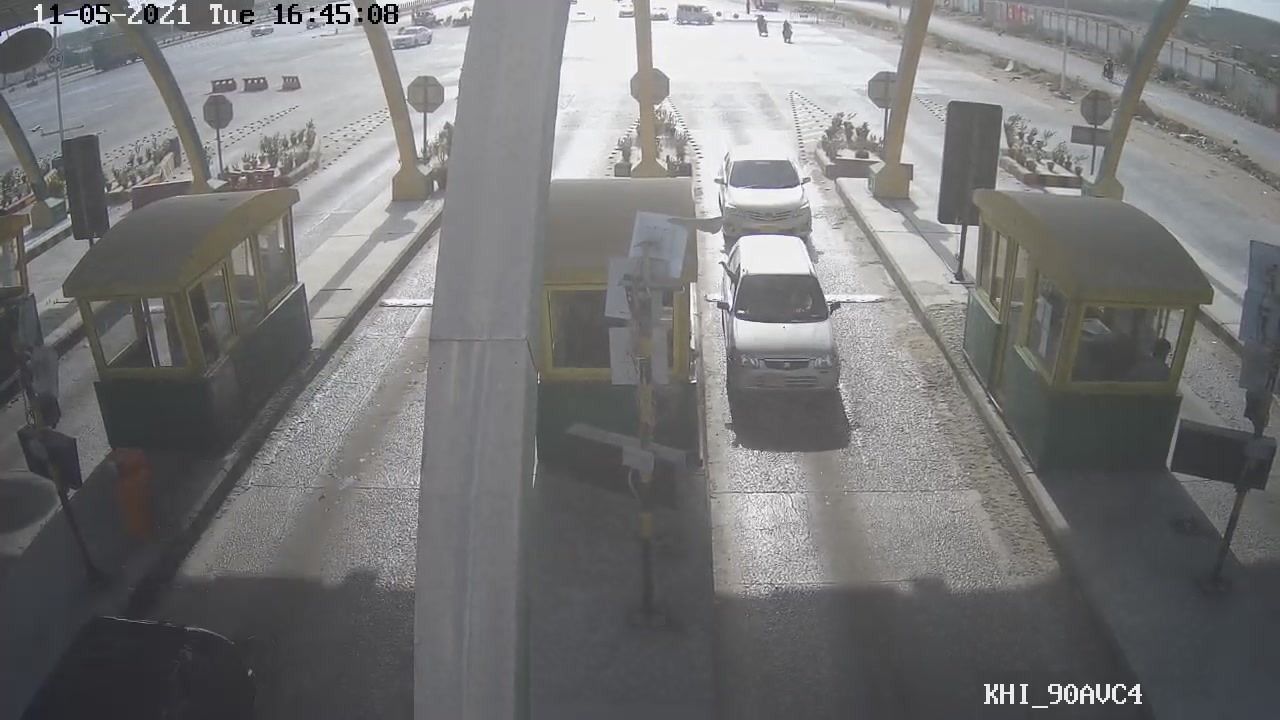F1: (713, 232, 864, 402)
